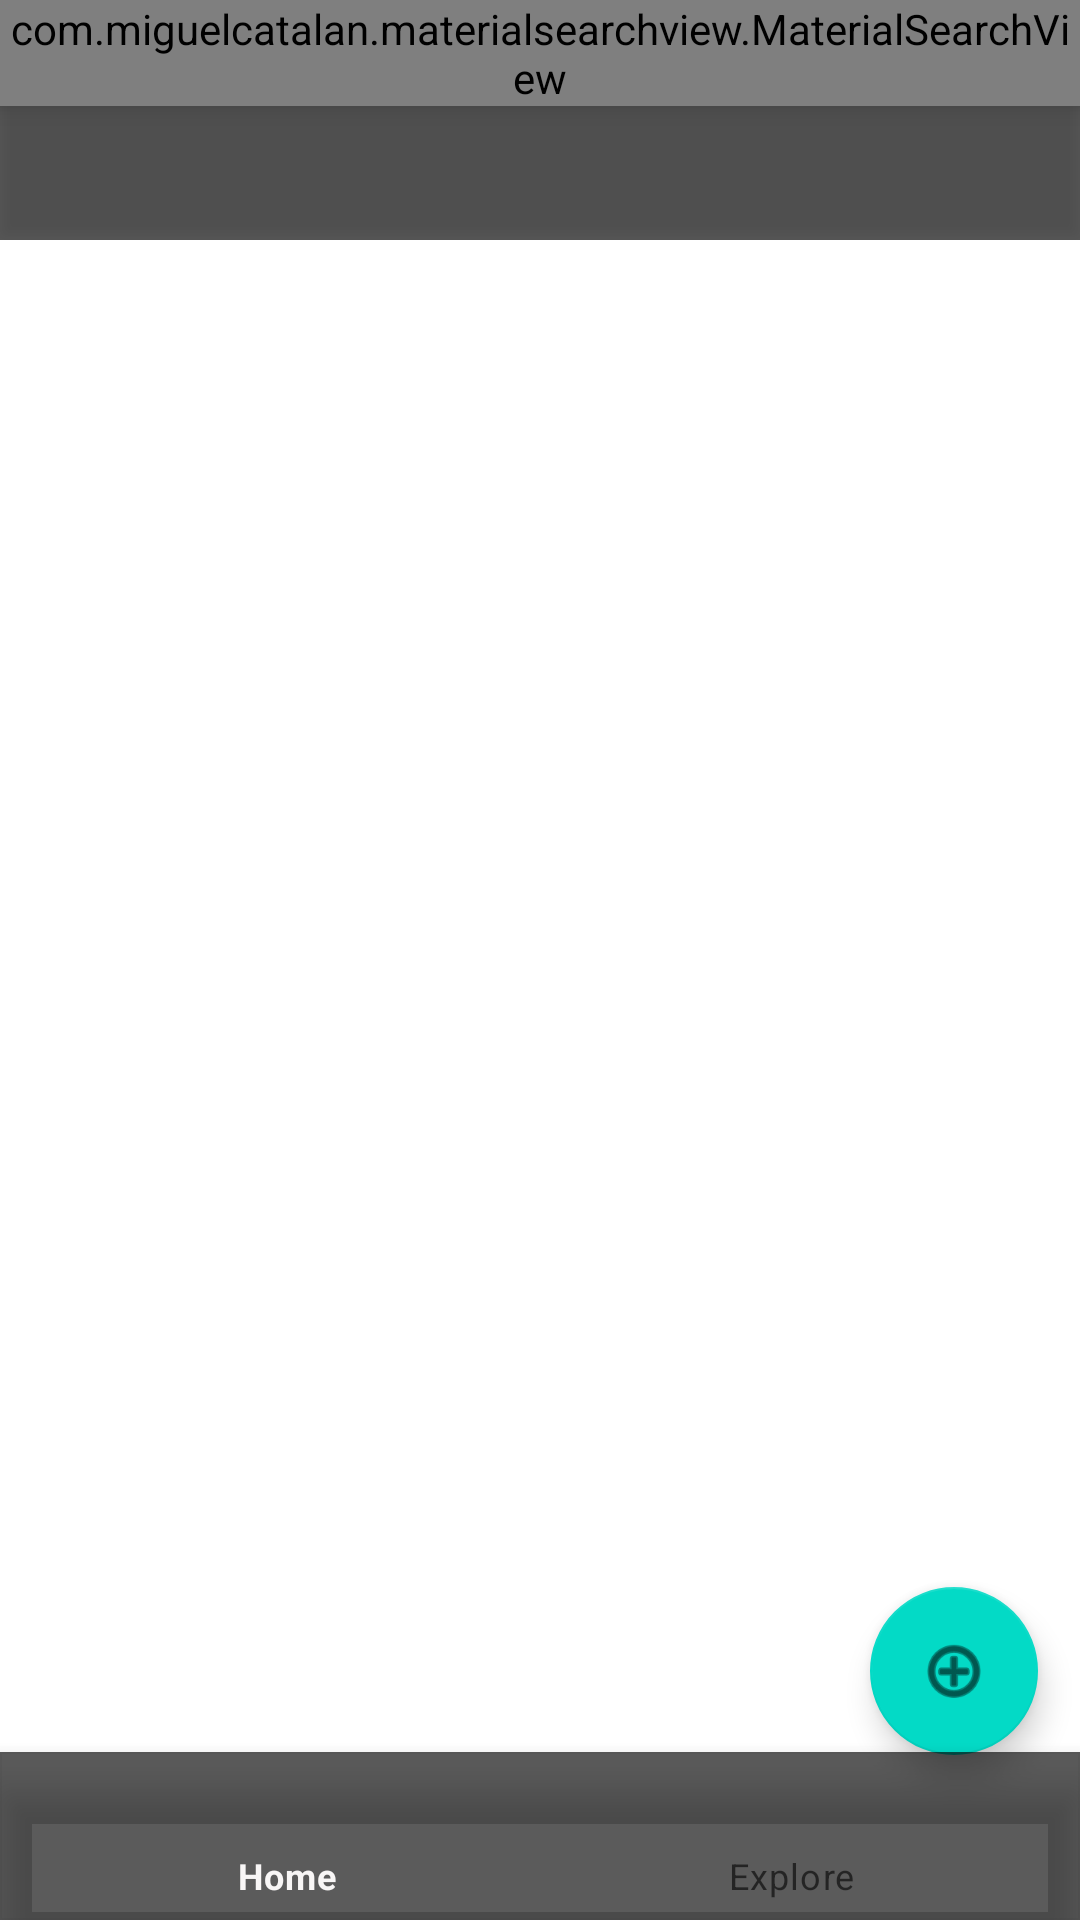

Where to tap for icons on this 1080px×1920px app screen, as (x,y):
add: (954,1671)
